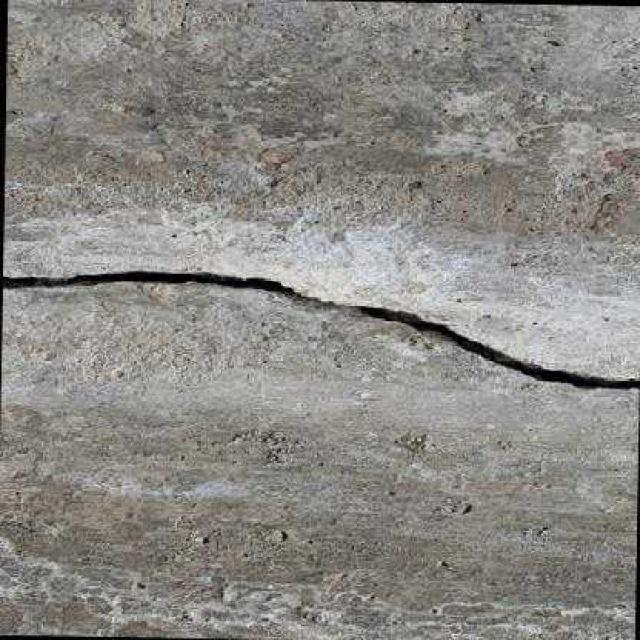D00: (1, 270, 639, 388)
